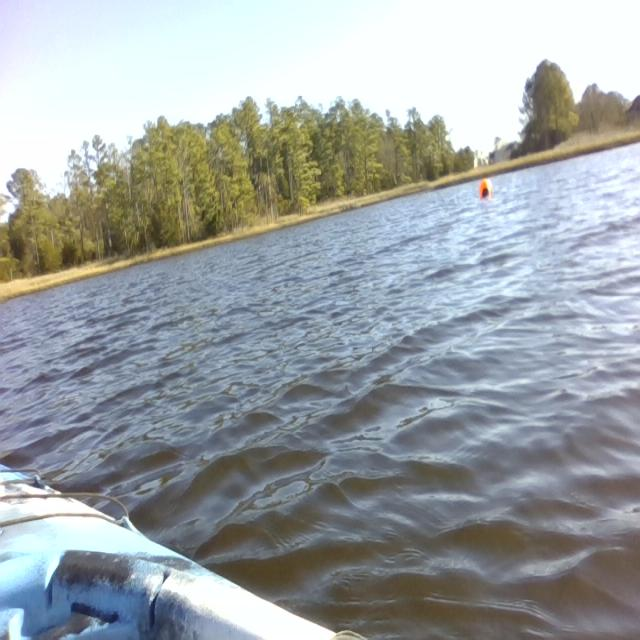Buoy: (476, 172, 496, 211)
